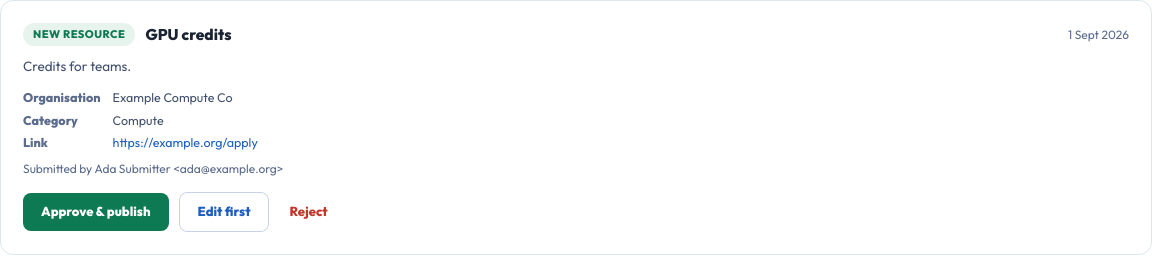
Test: ReviewCard › reports a successful reject
The image size is (1152, 272).
Click the button "Reject". click: click(309, 212)
box: [280,193,338,231]
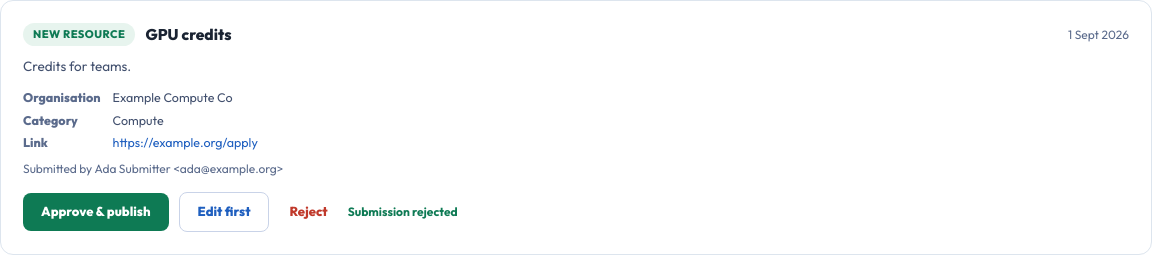
Check: the text "Submission rejected" is shown, box [348,203,458,221]
